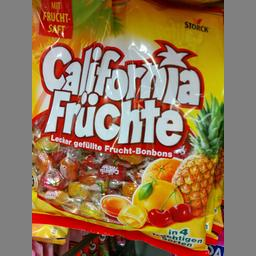candy: (31, 0, 223, 255)
